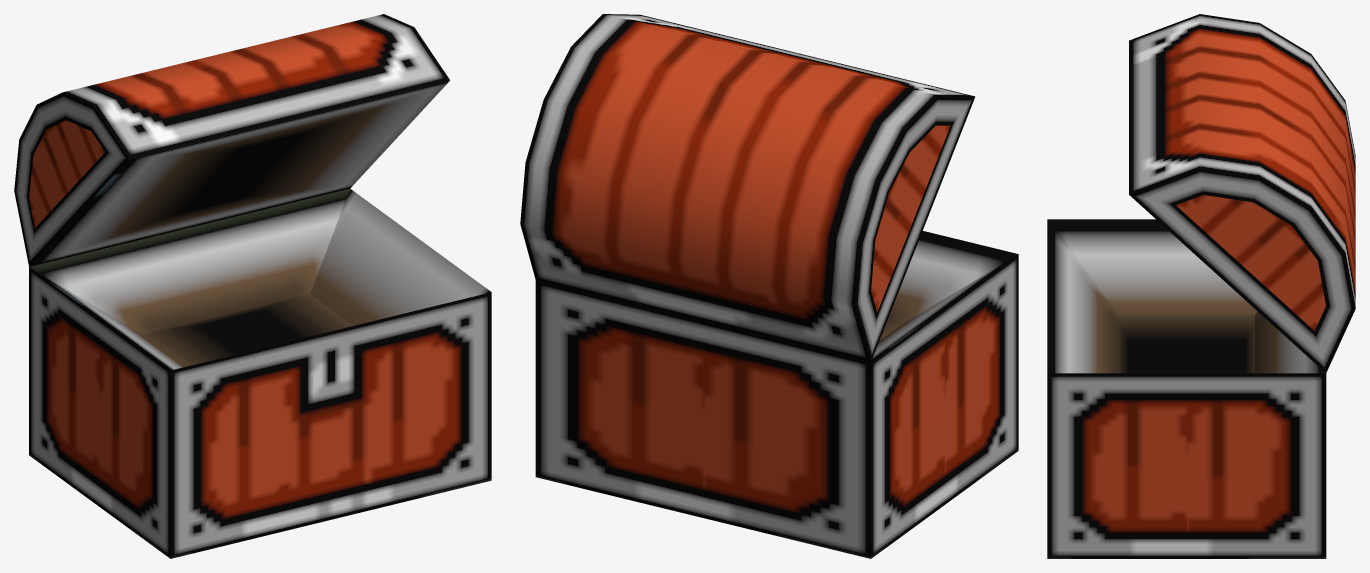
File: deco_deco_chestSmall_open.FBX
3 views of the same model, side by side, from view 1: azimuth 30°, elevation 25°; view 2: azimuth 150°, elevation 25°; view 3: azimuth 270°, elevation 25° (orthographic). The views are drawn at different scales.
Parts seen in each view (by area): view 1: deco_deco_chestSmall_open; view 2: deco_deco_chestSmall_open; view 3: deco_deco_chestSmall_open.
Boxes of the visible parts, <box> form: deco_deco_chestSmall_open: <box>14,14,491,558</box>; deco_deco_chestSmall_open: <box>520,14,1018,558</box>; deco_deco_chestSmall_open: <box>1047,14,1355,558</box>.
Size of the model in its own units: 1.55 by 1.83 by 1.31.
Materials: 1 (1 with a texture image).
